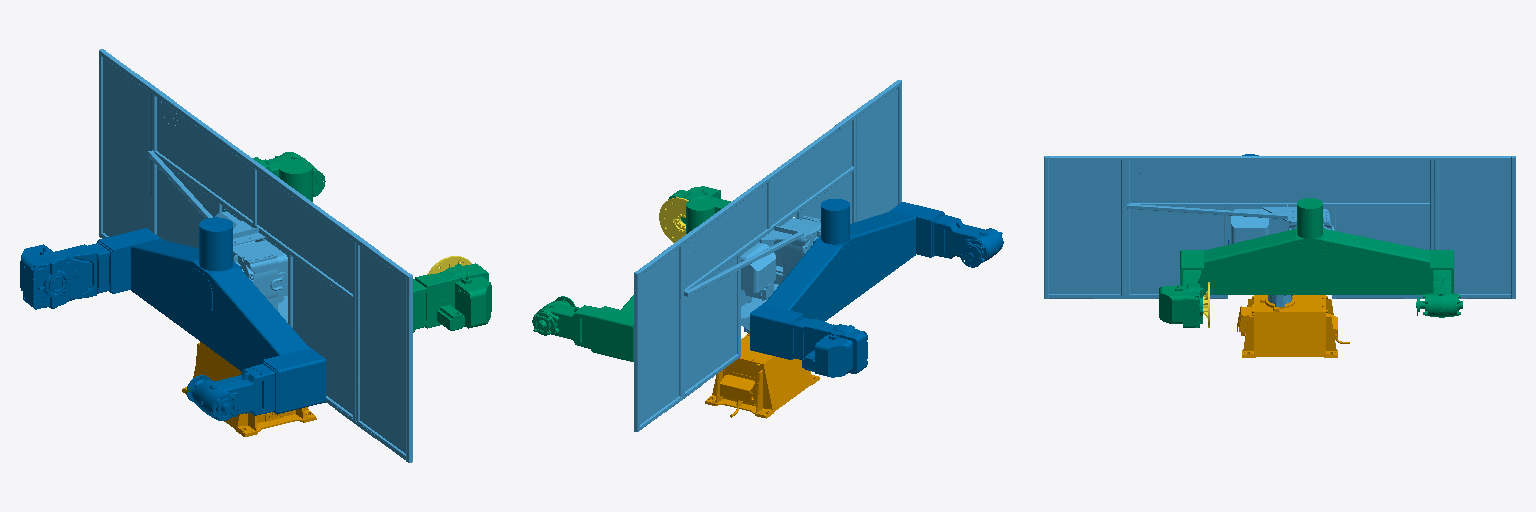
The robot description file, URDF, robot "Irbpd_600_D1200_L2000_IRC5_rev02_CAD":
<?xml version="1.0" ?>
<robot name="Irbpd_600_D1200_L2000_IRC5_rev02_CAD">

<link name="base_link">
  <inertial>
    <origin xyz="-0.00012294956196388555 0.08797612539342559 0.21441615376359383" rpy="0 0 0"/>
    <mass value="1310.5292686538128"/>
    <inertia ixx="82.104533" iyy="51.101771" izz="91.002161" ixy="0.063507" iyz="0.950218" ixz="-0.013079"/>
  </inertial>
  <visual>
    <origin xyz="0 0 0" rpy="0 0 0"/>
    <geometry>
      <mesh filename="meshes/base_link.stl" scale="0.001 0.001 0.001"/>
    </geometry>
  </visual>
  <collision>
    <origin xyz="0 0 0" rpy="0 0 0"/>
    <geometry>
      <mesh filename="meshes/base_link.stl" scale="0.001 0.001 0.001"/>
    </geometry>
  </collision>
</link>

<link name="Component10_1">
  <inertial>
    <origin xyz="0.0020774712205897856 -4.2967022707922494e-05 0.6647637388566682" rpy="0 0 0"/>
    <mass value="2053.609747817347"/>
    <inertia ixx="1072.839386" iyy="250.922661" izz="935.589745" ixy="-54.392242" iyz="-0.058375" ixz="2.088798"/>
  </inertial>
  <visual>
    <origin xyz="0.0 0.0 -0.481" rpy="0 0 0"/>
    <geometry>
      <mesh filename="meshes/Component10_1.stl" scale="0.001 0.001 0.001"/>
    </geometry>
  </visual>
  <collision>
    <origin xyz="0.0 0.0 -0.481" rpy="0 0 0"/>
    <geometry>
      <mesh filename="meshes/Component10_1.stl" scale="0.001 0.001 0.001"/>
    </geometry>
  </collision>
</link>

<link name="Component3_1">
  <inertial>
    <origin xyz="0.27209568302775955 -0.01221421429095726 -0.1864928769004368" rpy="0 0 0"/>
    <mass value="3526.938957627401"/>
    <inertia ixx="2656.625215" iyy="345.869223" izz="2804.239654" ixy="153.153598" iyz="-10.941088" ixz="30.725037"/>
  </inertial>
  <visual>
    <origin xyz="-0.363 -0.288 -1.25" rpy="0 0 0"/>
    <geometry>
      <mesh filename="meshes/Component3_1.stl" scale="0.001 0.001 0.001"/>
    </geometry>
  </visual>
  <collision>
    <origin xyz="-0.363 -0.288 -1.25" rpy="0 0 0"/>
    <geometry>
      <mesh filename="meshes/Component3_1.stl" scale="0.001 0.001 0.001"/>
    </geometry>
  </collision>
</link>

<link name="Component11_1">
  <inertial>
    <origin xyz="0.0011124864297420434 0.043567865600664946 -1.5487611193520934e-13" rpy="0 0 0"/>
    <mass value="21.25030383337666"/>
    <inertia ixx="0.228504" iyy="0.446816" izz="0.231342" ixy="0.000583" iyz="0.0" ixz="-0.0"/>
  </inertial>
  <visual>
    <origin xyz="-1.245 0.7382 -1.0" rpy="0 0 0"/>
    <geometry>
      <mesh filename="meshes/Component11_1.stl" scale="0.001 0.001 0.001"/>
    </geometry>
  </visual>
  <collision>
    <origin xyz="-1.245 0.7382 -1.0" rpy="0 0 0"/>
    <geometry>
      <mesh filename="meshes/Component11_1.stl" scale="0.001 0.001 0.001"/>
    </geometry>
  </collision>
</link>

<link name="Component12_1">
  <inertial>
    <origin xyz="-0.2720956833248801 0.0122142164080844 -0.18649287700206307" rpy="0 0 0"/>
    <mass value="3526.938959317225"/>
    <inertia ixx="2656.625209" iyy="345.869233" izz="2804.239648" ixy="153.153602" iyz="10.941089" ixz="-30.725037"/>
  </inertial>
  <visual>
    <origin xyz="0.363 0.288 -1.25" rpy="0 0 0"/>
    <geometry>
      <mesh filename="meshes/Component12_1.stl" scale="0.001 0.001 0.001"/>
    </geometry>
  </visual>
  <collision>
    <origin xyz="0.363 0.288 -1.25" rpy="0 0 0"/>
    <geometry>
      <mesh filename="meshes/Component12_1.stl" scale="0.001 0.001 0.001"/>
    </geometry>
  </collision>
</link>

<link name="Component4_1">
  <inertial>
    <origin xyz="-0.001112486430138837 -0.04356786560053394 8.526512829121202e-14" rpy="0 0 0"/>
    <mass value="21.25030383337226"/>
    <inertia ixx="0.228504" iyy="0.446816" izz="0.231342" ixy="0.000583" iyz="0.0" ixz="-0.0"/>
  </inertial>
  <visual>
    <origin xyz="1.245 -0.7382 -1.0" rpy="0 0 0"/>
    <geometry>
      <mesh filename="meshes/Component4_1.stl" scale="0.001 0.001 0.001"/>
    </geometry>
  </visual>
  <collision>
    <origin xyz="1.245 -0.7382 -1.0" rpy="0 0 0"/>
    <geometry>
      <mesh filename="meshes/Component4_1.stl" scale="0.001 0.001 0.001"/>
    </geometry>
  </collision>
</link>

<joint name="j1" type="continuous">
  <origin xyz="0.0 0.0 0.481" rpy="0 0 0"/>
  <parent link="base_link"/>
  <child link="Component10_1"/>
  <axis xyz="0.0 0.0 -1.0"/>
</joint>

<joint name="j2" type="continuous">
  <origin xyz="0.363 0.288 0.769" rpy="0 0 0"/>
  <parent link="Component10_1"/>
  <child link="Component3_1"/>
  <axis xyz="1.0 0.0 0.0"/>
</joint>

<joint name="j3" type="continuous">
  <origin xyz="0.882 -1.0262 -0.25" rpy="0 0 0"/>
  <parent link="Component3_1"/>
  <child link="Component11_1"/>
  <axis xyz="0.0 -1.0 0.0"/>
</joint>

<joint name="j4" type="continuous">
  <origin xyz="-0.363 -0.288 0.769" rpy="0 0 0"/>
  <parent link="Component10_1"/>
  <child link="Component12_1"/>
  <axis xyz="-1.0 0.0 0.0"/>
</joint>

<joint name="j5" type="continuous">
  <origin xyz="-0.882 1.0262 -0.25" rpy="0 0 0"/>
  <parent link="Component12_1"/>
  <child link="Component4_1"/>
  <axis xyz="-0.0 1.0 0.0"/>
</joint>

</robot>

--- Render facts (derived) ---
Views: 3 orthographic renders of the robot side by side, from view 1: azimuth 30°, elevation 25°; view 2: azimuth 150°, elevation 25°; view 3: azimuth 270°, elevation 25°.
Robot: Irbpd_600_D1200_L2000_IRC5_rev02_CAD — 6 links, 5 joints (5 continuous); root link base_link; default pose: all joints at 0.
Links seen in each view (by area): view 1: Component10_1, Component12_1, Component3_1, base_link; view 2: Component10_1, Component12_1, Component3_1, base_link, Component11_1; view 3: Component10_1, Component3_1, base_link.
Link boxes in pixels (x1,y1,x2,y2): Component10_1: (99, 49, 412, 462); Component12_1: (20, 217, 325, 420); Component3_1: (224, 152, 491, 332); base_link: (182, 342, 316, 436); Component10_1: (634, 80, 901, 431); Component12_1: (750, 199, 1003, 377); Component3_1: (532, 186, 730, 361); base_link: (705, 333, 819, 418); Component11_1: (659, 197, 688, 242); Component10_1: (1044, 156, 1515, 306); Component3_1: (1159, 198, 1462, 327); base_link: (1237, 295, 1349, 357).
Bounding box of the posed robot: 2.9 × 4.54 × 2.01 m (x, y, z).
5 mesh visuals loaded from 6 distinct referenced files (5 binary STL); not drawn: 1 (reference not matched to a file when rendering).